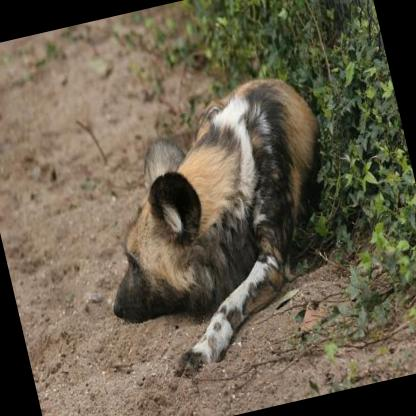African_hunting_dog: (67, 63, 369, 396)
